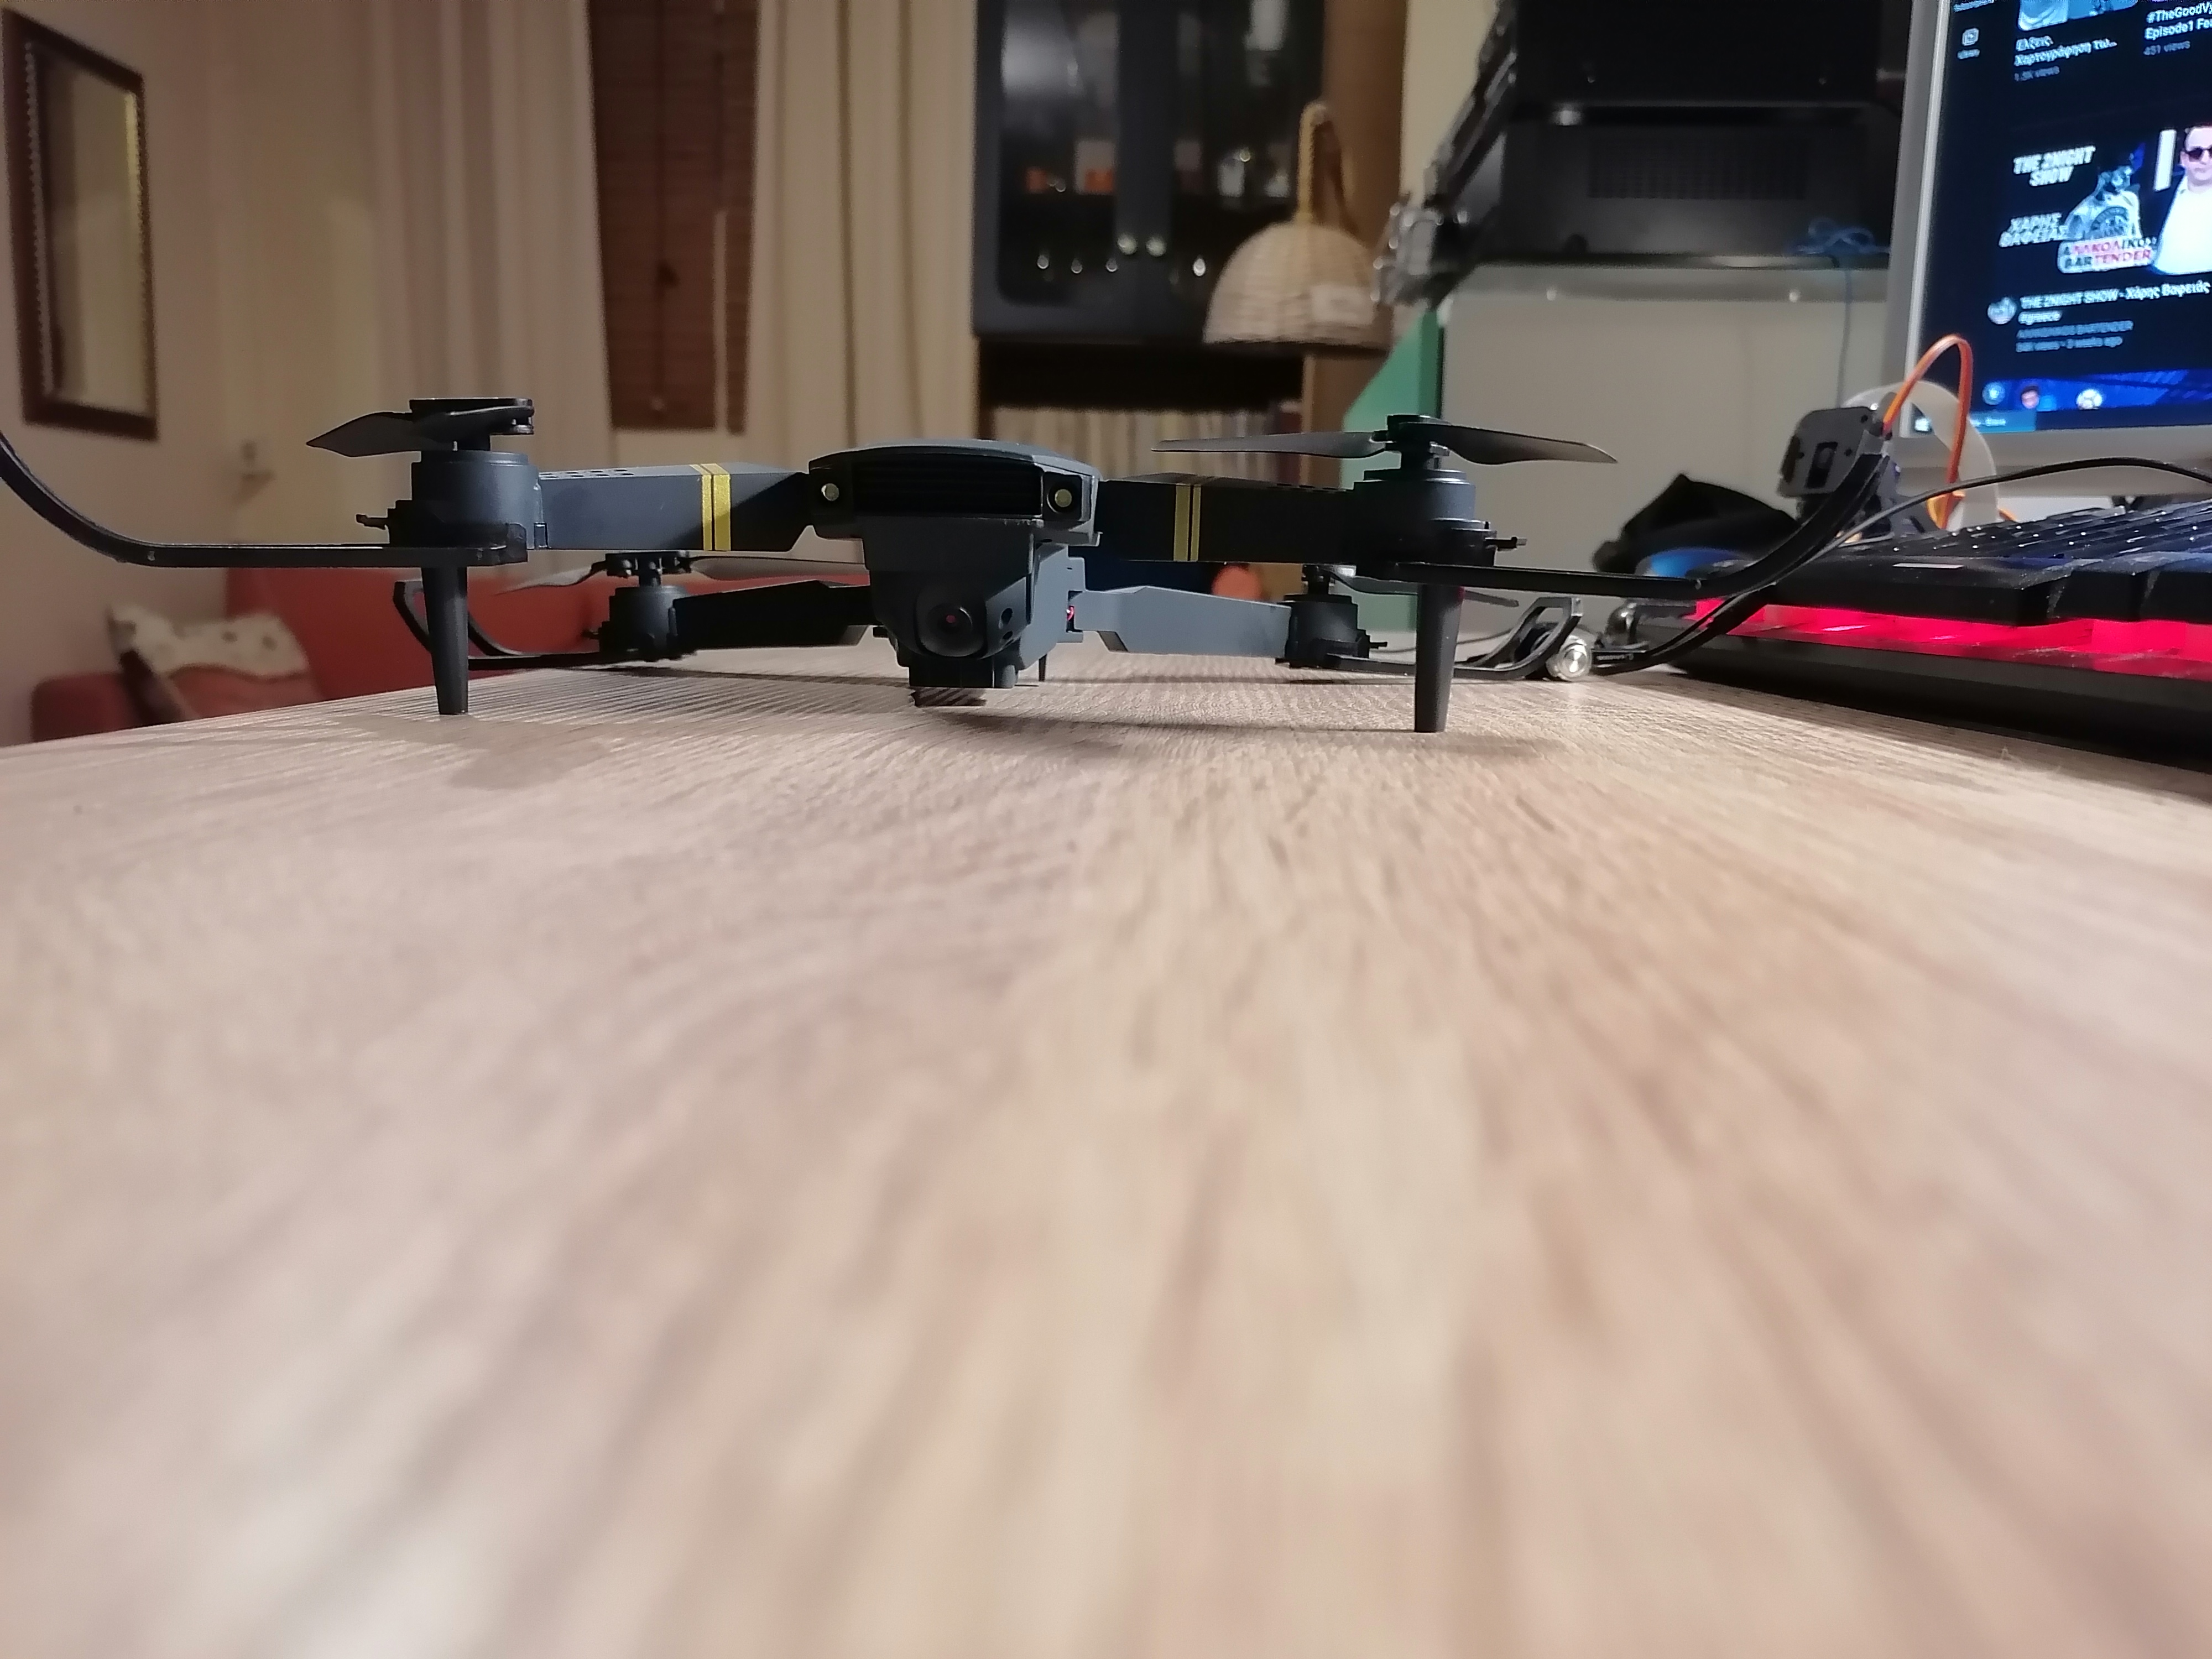drone: (3, 359, 1801, 777)
